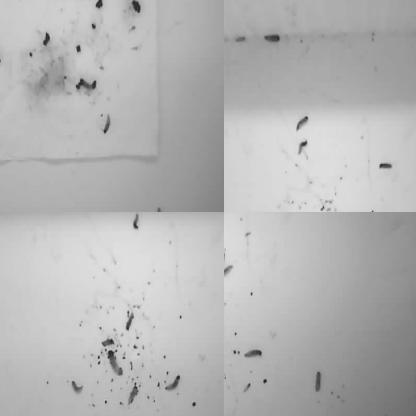PtecticusTenebrifer: (108, 349, 123, 378), (263, 32, 284, 47), (100, 112, 113, 136), (164, 373, 180, 392), (295, 115, 311, 132), (224, 302, 234, 328), (126, 386, 138, 406), (78, 78, 96, 90), (378, 160, 394, 173), (298, 139, 308, 158), (71, 379, 83, 394), (243, 349, 263, 358), (234, 34, 248, 46), (314, 371, 322, 392), (126, 313, 135, 331), (132, 213, 140, 231), (101, 338, 114, 347), (224, 264, 233, 275), (0, 29, 4, 53), (177, 212, 193, 218), (224, 382, 232, 394), (5, 212, 23, 217), (252, 212, 269, 217), (224, 316, 230, 330), (245, 212, 253, 222), (224, 252, 228, 271), (0, 62, 3, 83), (224, 212, 234, 218), (364, 212, 378, 216), (156, 206, 164, 212), (306, 212, 318, 215)
